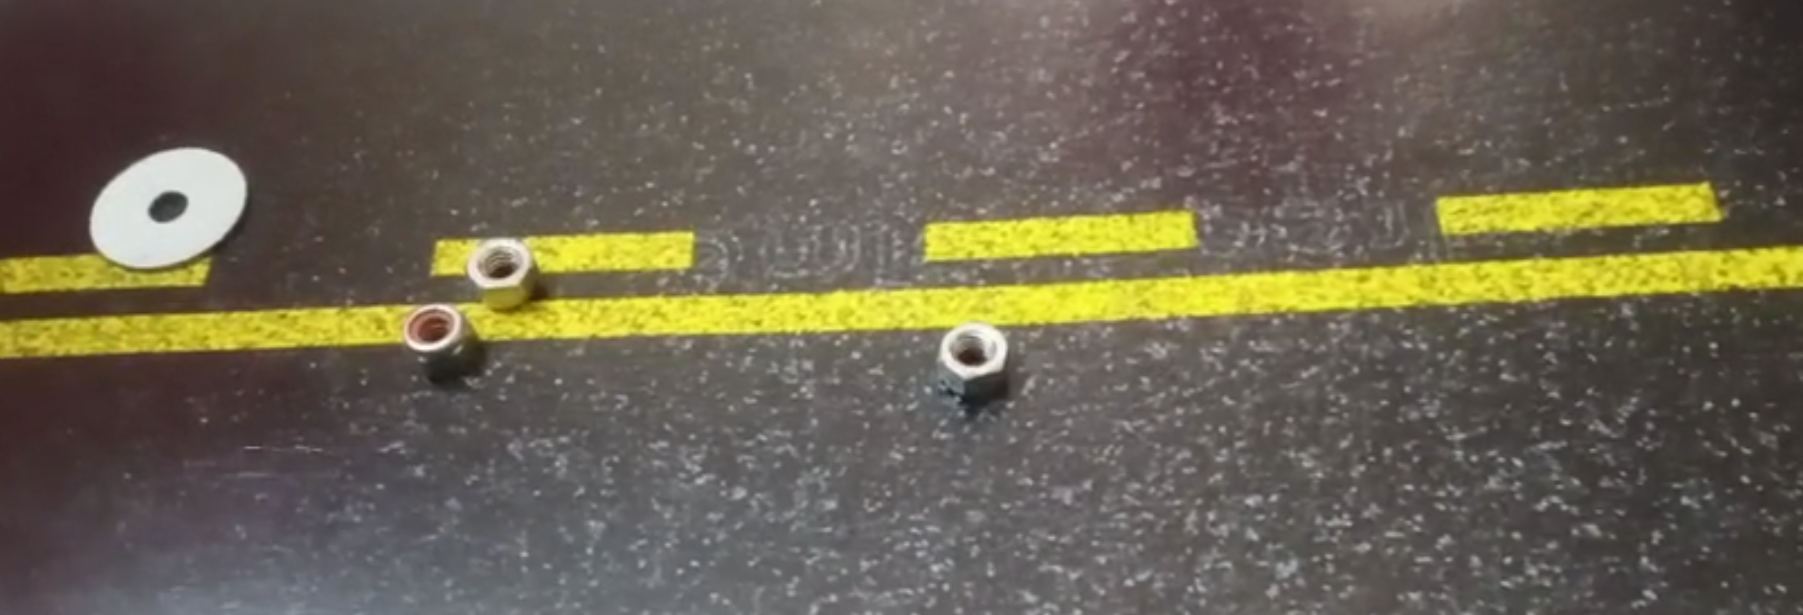metal: (77, 140, 264, 271), (390, 289, 471, 394), (930, 324, 1025, 400), (460, 233, 539, 314)
